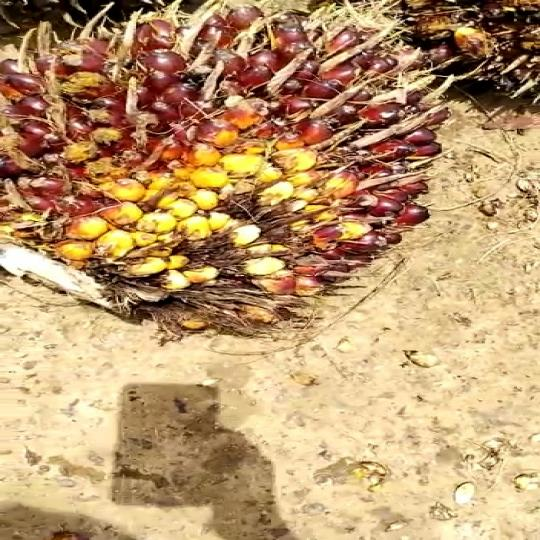kurang masak: (0, 0, 462, 322)
